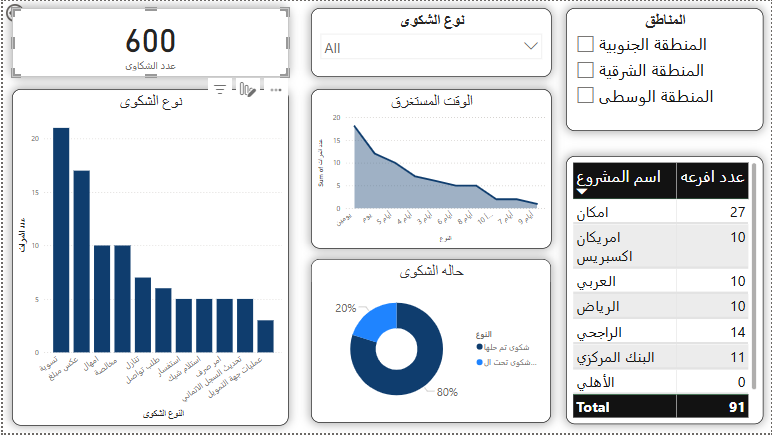

Layout of this report page (visuals, bound fields, positions):
{"tool":"powerbi","page":{"name":"Page 1","canvas":[1280,720],"ordinal":0},"visuals":[{"type":"actionButton","box":[0,0,100,40],"z":0},{"type":"slicer","title":"المناطق","fields":{"Values":["master.المنطقه"]},"box":[939,11.8,329.2,204.9],"z":1000},{"type":"areaChart","title":"الوقت المستغرق ","fields":{"Category":["master.النوع"],"Y":["Sum(master.عدد المرات)"]},"box":[512.8,146.9,401.1,266],"z":2000},{"type":"donutChart","title":"حاله الشكوى","fields":{"Category":["master.النوع"],"Y":["Sum(master.عدد المرات)"]},"box":[512.8,430.5,399.7,273.3],"z":3000},{"type":"tableEx","title":"المشاريع","fields":{"Values":["master.النوع","Sum(master.عدد المرات)"]},"box":[939,258.7,329.2,446.8],"z":4000},{"type":"lineStackedColumnComboChart","title":"نوع الشكوى ","fields":{"Category":["master.النوع"],"Y":["Sum(master.عدد المرات)"]},"box":[14.7,126.4,461.4,581.9],"z":5000},{"type":"slicer","title":"نوع الشكوى","fields":{"Values":["master.النوع"]},"box":[512.8,11.8,401.1,114.6],"z":6000}]}

Visuals, with their boxes in screenshot pixels (x1, y1, x2, y2), scaled from the page's 1280x720 canvas onto the 772x435 screenshot:
actionButton: 0,0,60,24
"المناطق" slicer: 566,7,765,131
"الوقت المستغرق " areaChart: 309,89,551,249
"حاله الشكوى" donutChart: 309,260,550,425
"المشاريع" tableEx: 566,156,765,426
"نوع الشكوى " lineStackedColumnComboChart: 9,76,287,428
"نوع الشكوى" slicer: 309,7,551,76
